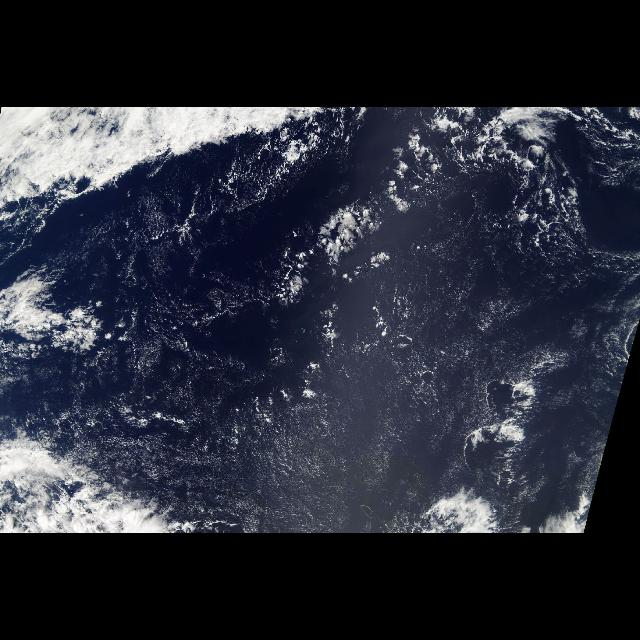Gravel: (392, 121, 584, 243)
Sugar: (84, 249, 632, 533)
